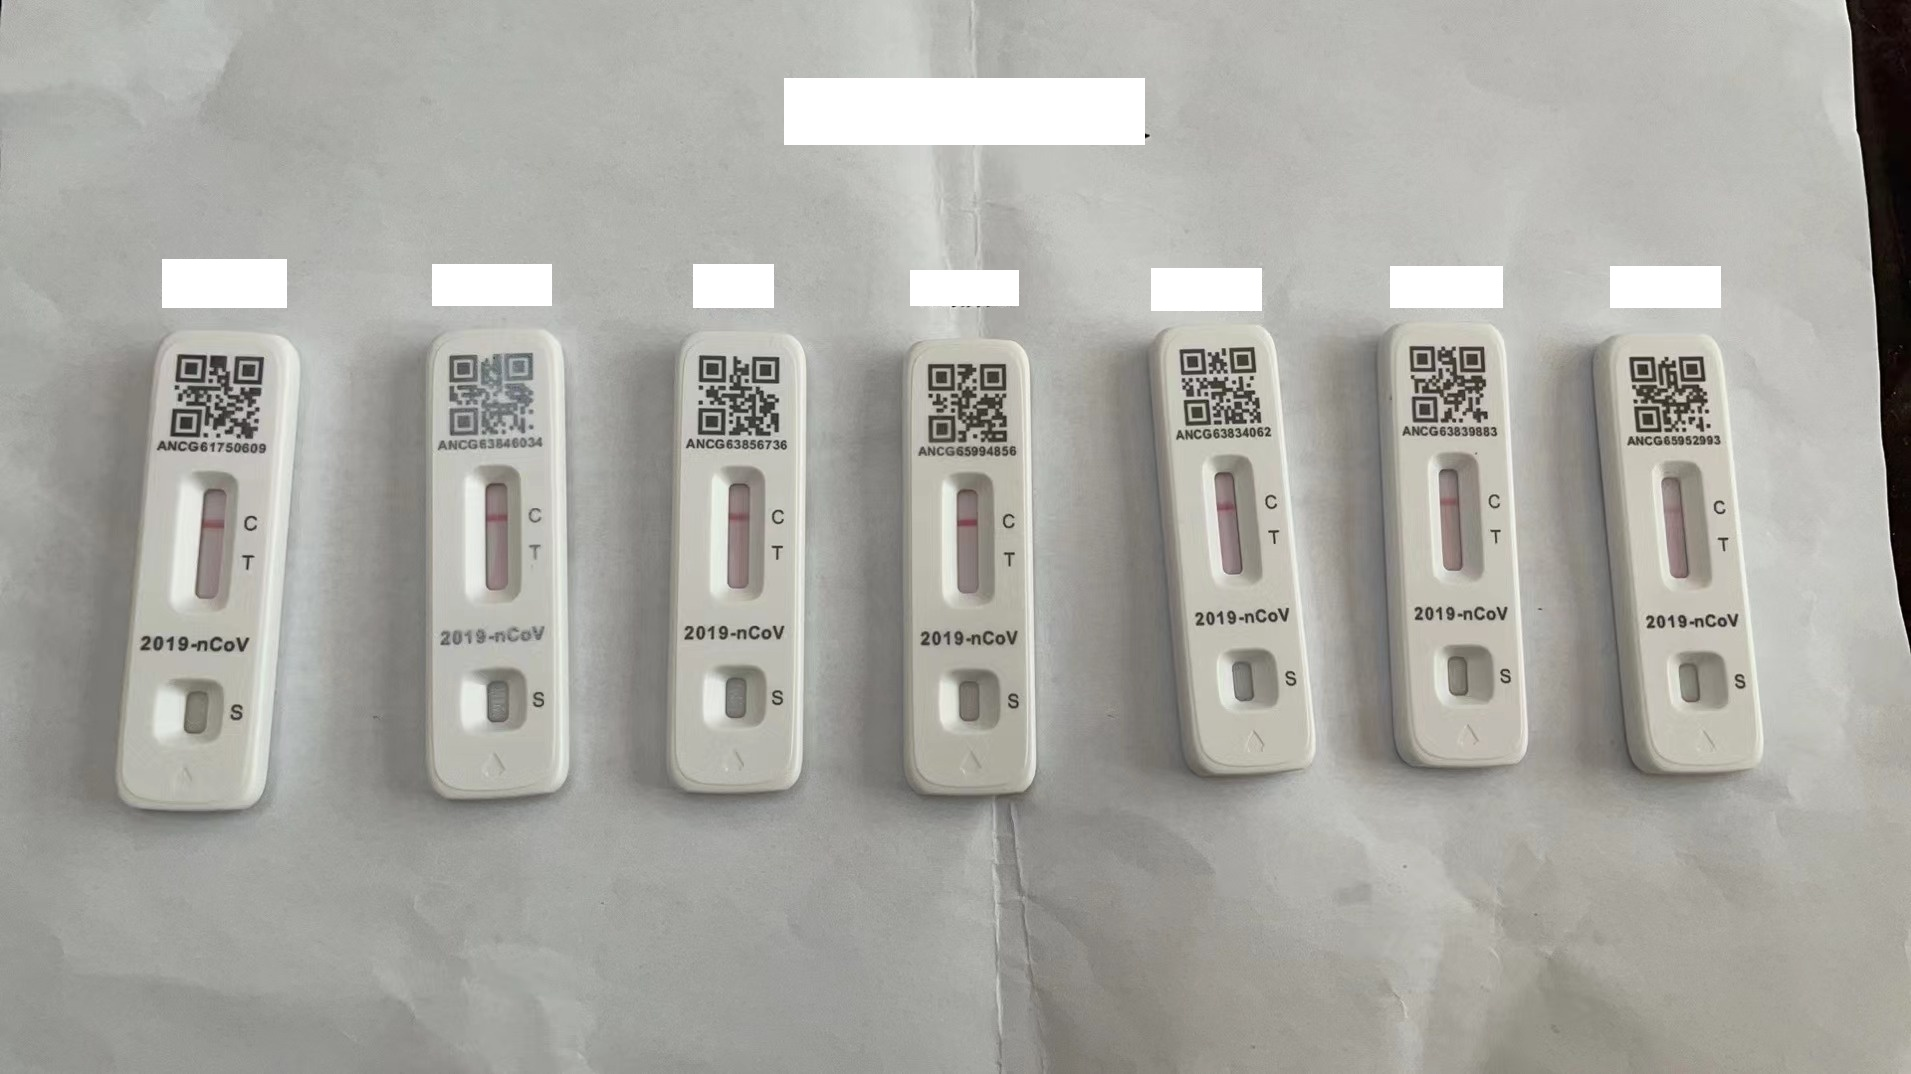negative: (177, 471, 236, 609), (1652, 460, 1711, 591), (1204, 454, 1263, 586), (1428, 450, 1484, 582), (942, 467, 995, 607), (469, 462, 520, 603), (713, 466, 764, 601)
